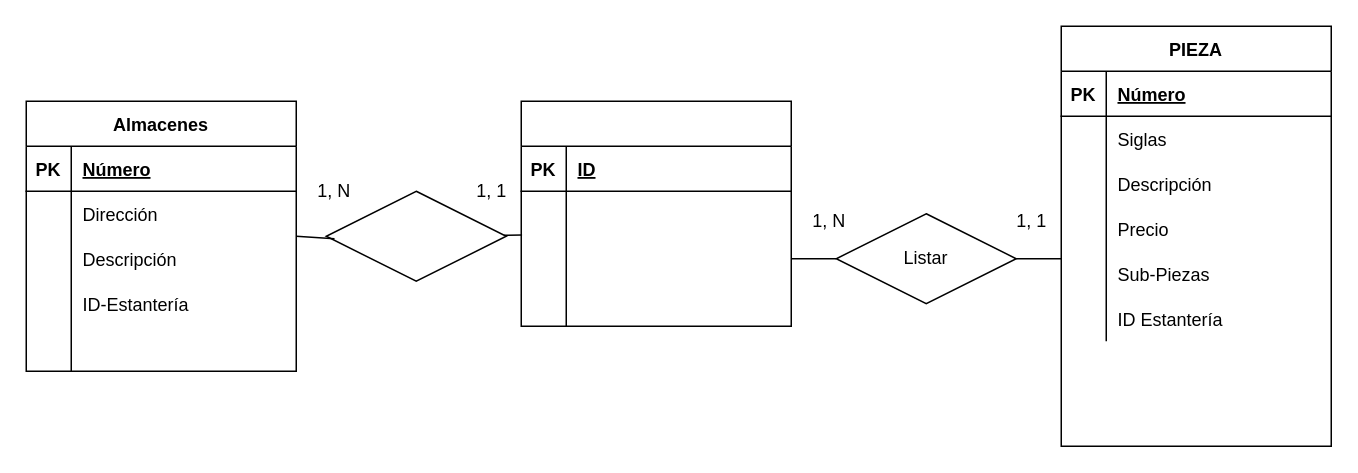
Image size: 1358x473. Some labels were removed from this diagram. Each missing label, with the box of its shape:
Estanterías: (520, 100, 791, 326)
Localizar: (325, 190, 506, 281)
